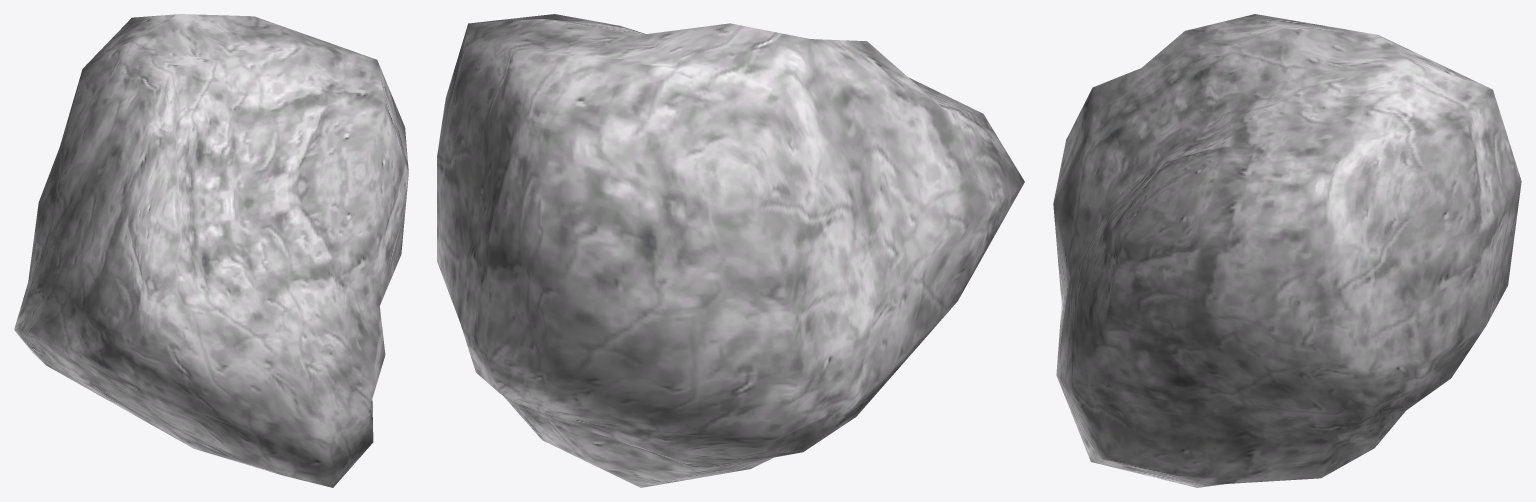
File: INST_TROLLHOLE_ROCKA.fbx
3 views of the same model, side by side, from view 1: azimuth 30°, elevation 25°; view 2: azimuth 150°, elevation 25°; view 3: azimuth 270°, elevation 25° (orthographic). The views are drawn at different scales.
Visible parts, largest first — view 1: INST_TROLLHOLE_ROCKA; view 2: INST_TROLLHOLE_ROCKA; view 3: INST_TROLLHOLE_ROCKA.
Boxes of the visible parts, x1=… form: INST_TROLLHOLE_ROCKA: x1=14, y1=14, x2=408, y2=487; INST_TROLLHOLE_ROCKA: x1=437, y1=14, x2=1024, y2=487; INST_TROLLHOLE_ROCKA: x1=1053, y1=14, x2=1521, y2=487.
Bounding box in the file's own units: 21252 × 21252 × 21252.
1 material, 1 textured.
